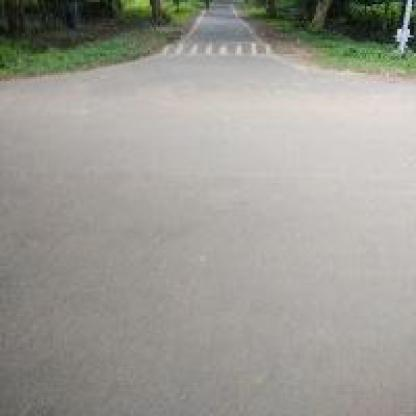Speed Bump: (164, 40, 272, 56)
